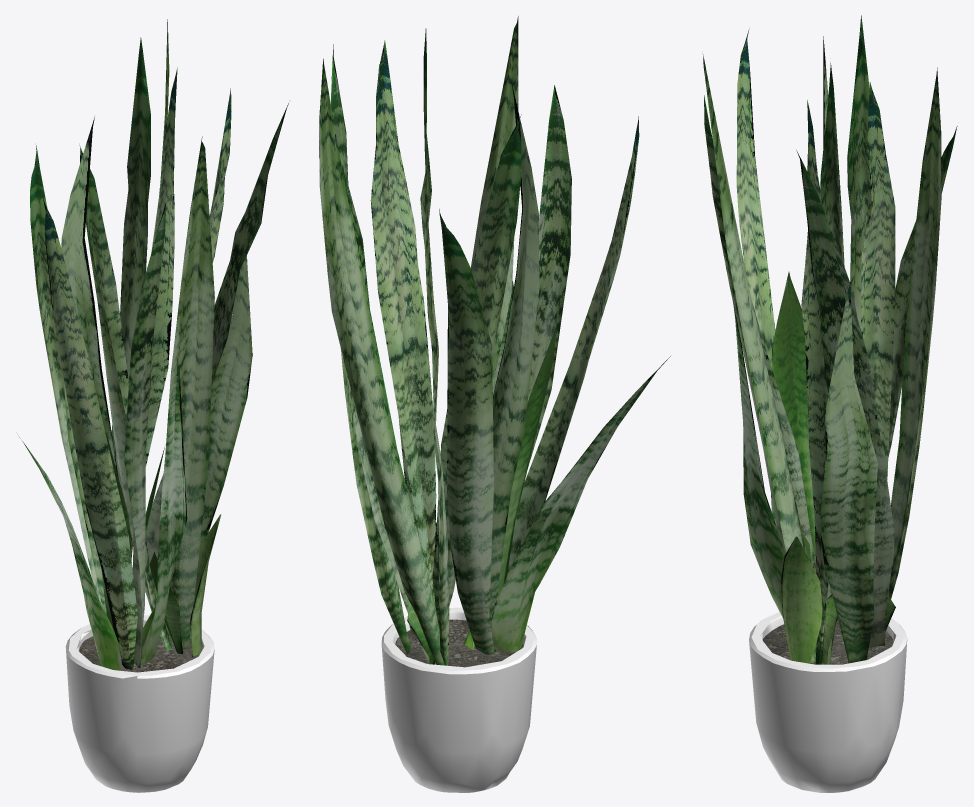
Rendered from Plant01.fbx.
3 views of the same model, side by side, from view 1: azimuth 30°, elevation 25°; view 2: azimuth 150°, elevation 25°; view 3: azimuth 270°, elevation 25° (orthographic). The views are drawn at different scales.
Visible parts, largest first — view 1: Plant01:Plant01; view 2: Plant01:Plant01; view 3: Plant01:Plant01.
Part boxes in pixels (x1,y1,x2,y2): Plant01:Plant01: (19, 19, 288, 792); Plant01:Plant01: (319, 16, 670, 792); Plant01:Plant01: (702, 15, 957, 792).
Bounding box in the file's own units: 0.3855 × 0.8848 × 0.2689.
Materials: 1 (1 with a texture image).
